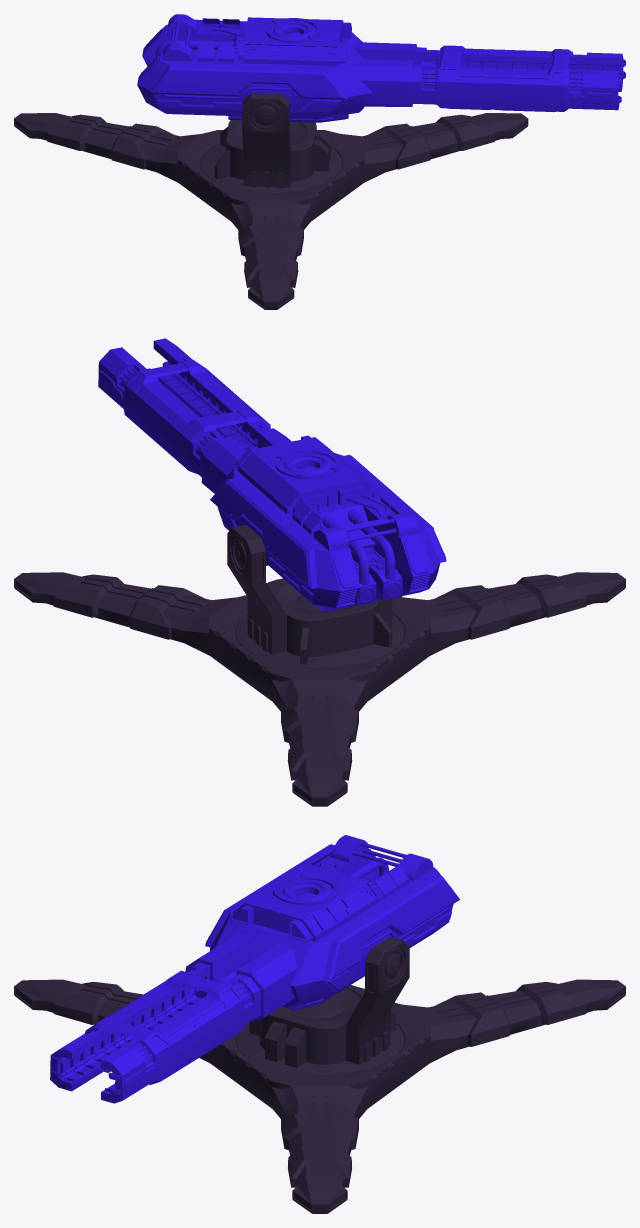
The model's file is TurretScify.fbx.
3 renders of one model, top to bottom at view 1: azimuth 30°, elevation 25°; view 2: azimuth 150°, elevation 25°; view 3: azimuth 270°, elevation 25°, orthographic. The views are drawn at different scales.
Visible parts, largest first — view 1: Cannon, Base, Pivot; view 2: Cannon, Base, Pivot; view 3: Cannon, Base, Pivot.
Boxes of the visible parts, box(x1,y1,x2,y2) form: Cannon: box(137, 14, 625, 122); Base: box(14, 113, 528, 309); Pivot: box(200, 92, 342, 192); Cannon: box(98, 338, 446, 611); Base: box(14, 572, 625, 806); Pivot: box(227, 524, 404, 667); Cannon: box(50, 835, 459, 1103); Base: box(14, 979, 625, 1213); Pivot: box(235, 936, 409, 1074).
Size of the model in its own units: 1094 by 414 by 1213.
